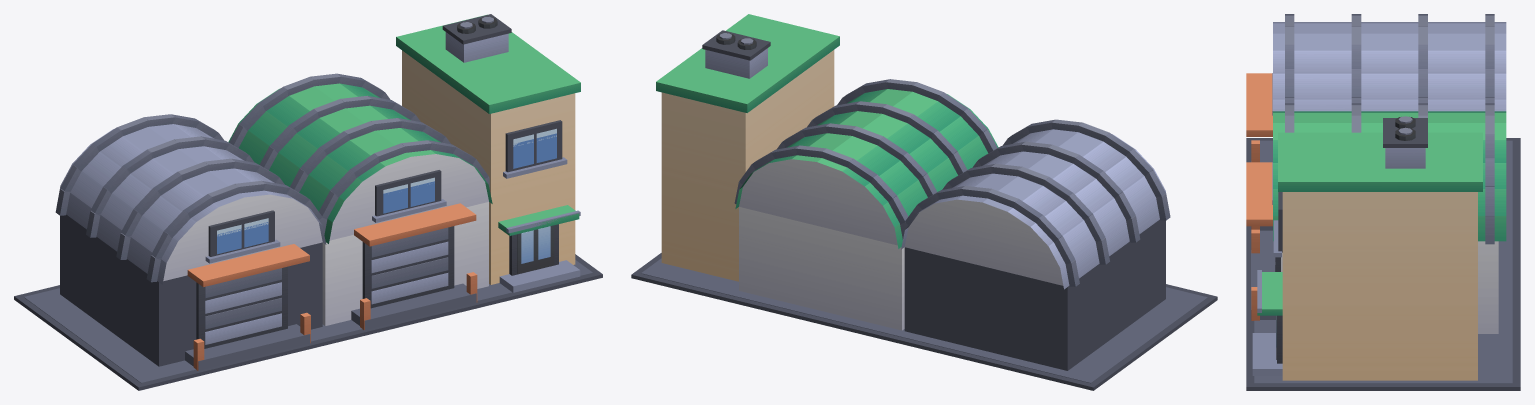
The model's file is ind_barrel_hangar_2x1.glb.
The picture shows the model from 3 angles, left to right: view 1: azimuth 30°, elevation 25°; view 2: azimuth 150°, elevation 25°; view 3: azimuth 270°, elevation 25°; orthographic projection. The views are drawn at different scales.
Visible parts, largest first — view 1: ind_barrel_hangar_2x1; view 2: ind_barrel_hangar_2x1; view 3: ind_barrel_hangar_2x1.
Part boxes in pixels (x1,y1,x2,y2): ind_barrel_hangar_2x1: (14, 14, 602, 390); ind_barrel_hangar_2x1: (631, 14, 1217, 390); ind_barrel_hangar_2x1: (1246, 14, 1520, 390).
Size of the model in its own units: 3.74 by 1.66 by 1.74.
1 material, 1 textured.
